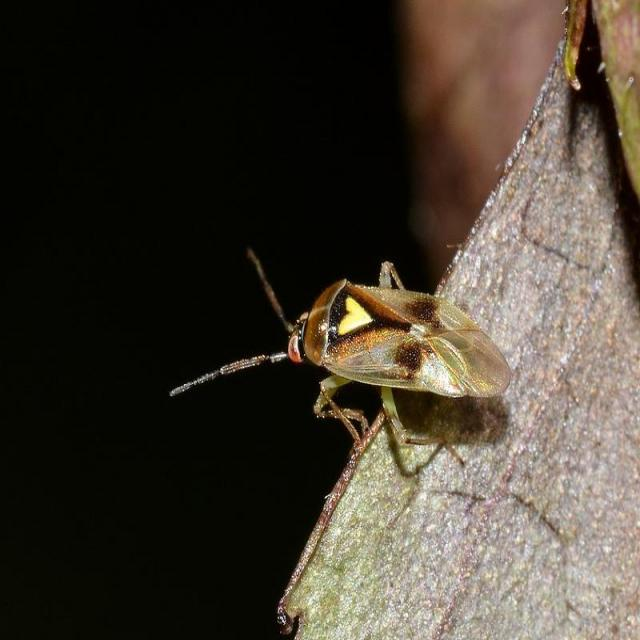Miridae-Adult-: (131, 225, 519, 478)
